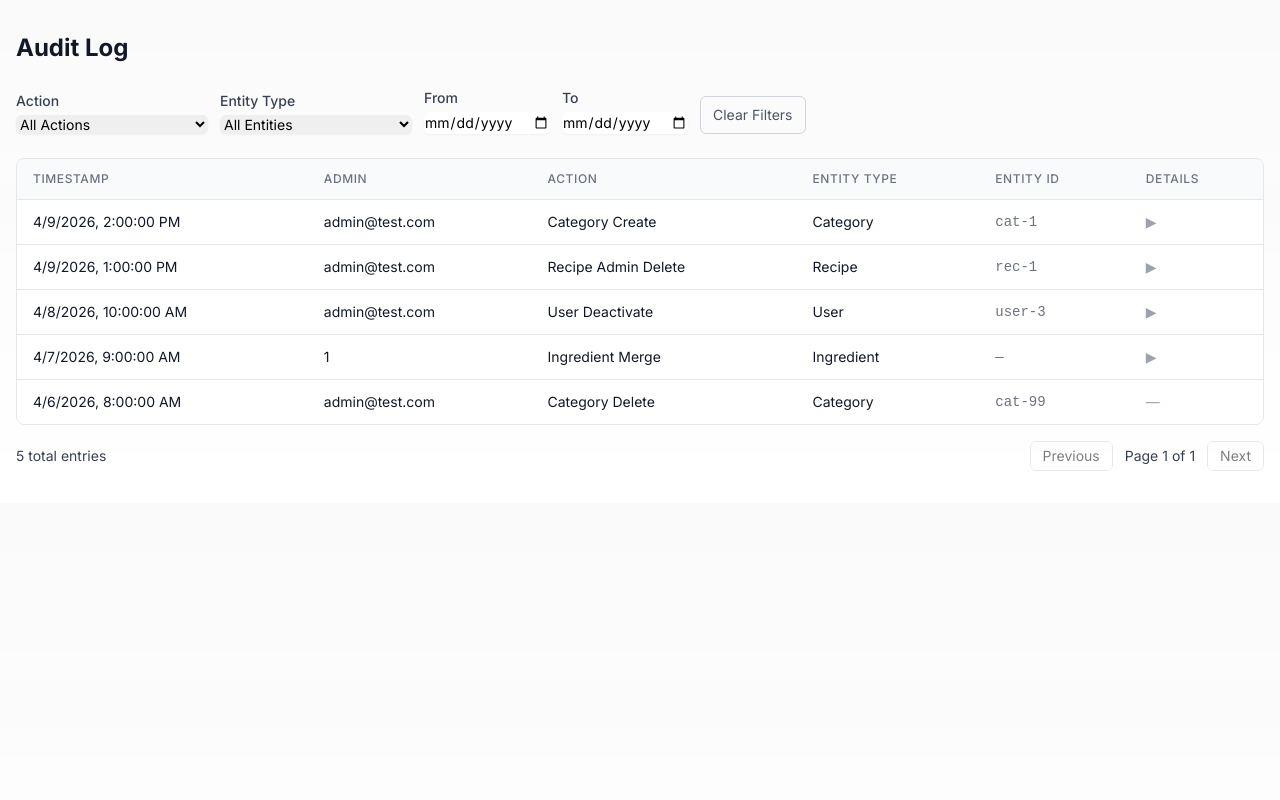
Test: AuditLogPage › collapses expanded row on second click
Check: the text "5 total entries" is shown, box x1=16 y1=446 x2=106 y2=466
Click the row that starts with "4/9/2026, 2:00:00 PM".
click(640, 222)  # box x1=17 y1=200 x2=1263 y2=244
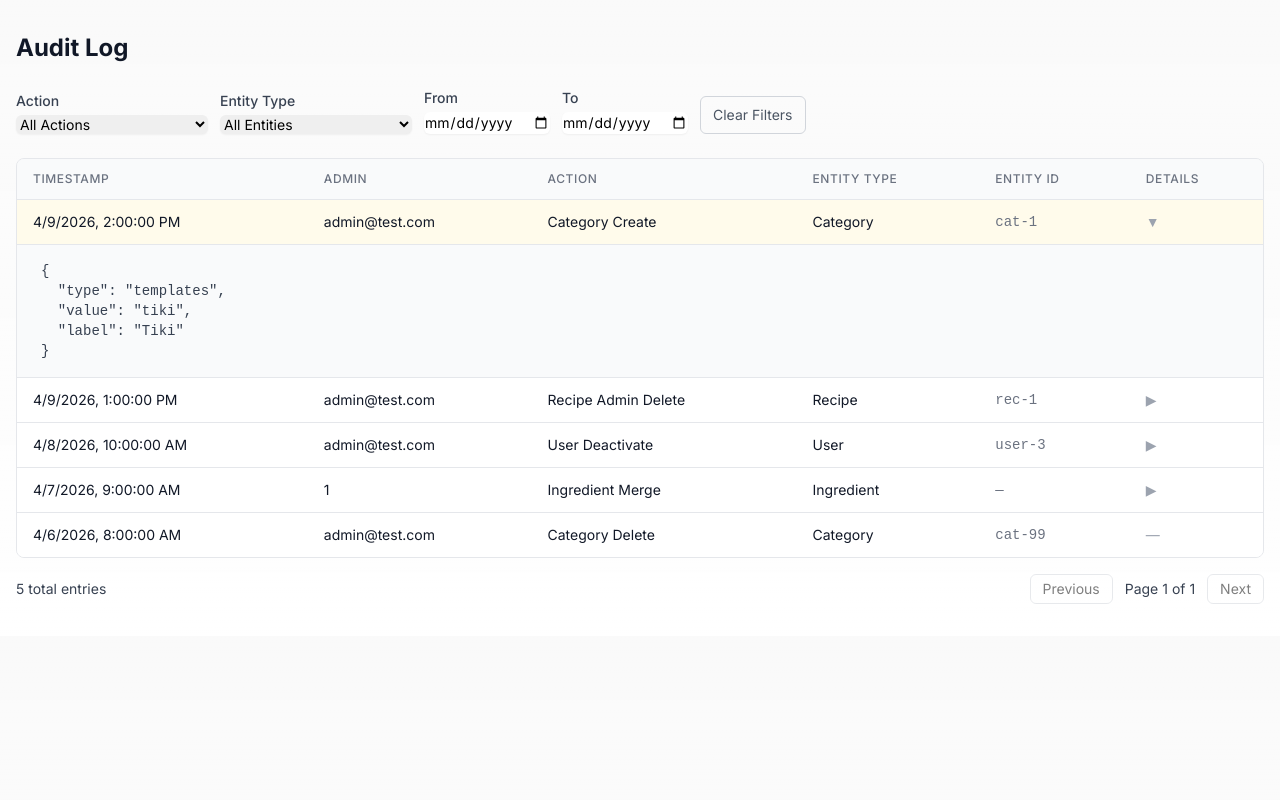
Check: the text "{ \"type\": \"templates\", \"value\": \"tiki\", \"label\": \"Tiki\" }" is shown, box x1=41 y1=263 x2=226 y2=359
Click the row that starts with "4/9/2026, 2:00:00 PM".
click(640, 222)  # box x1=17 y1=200 x2=1263 y2=244
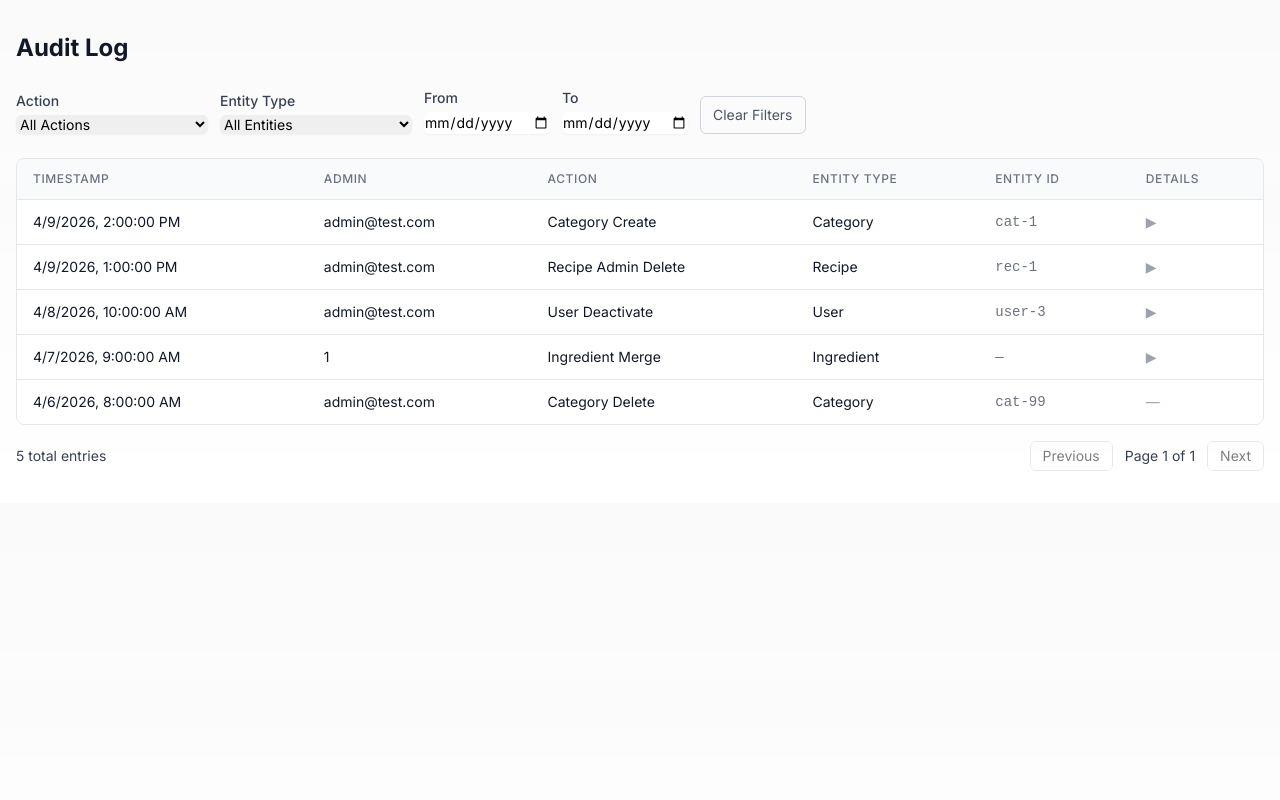
Check: the text "\"tiki\"" is gone
